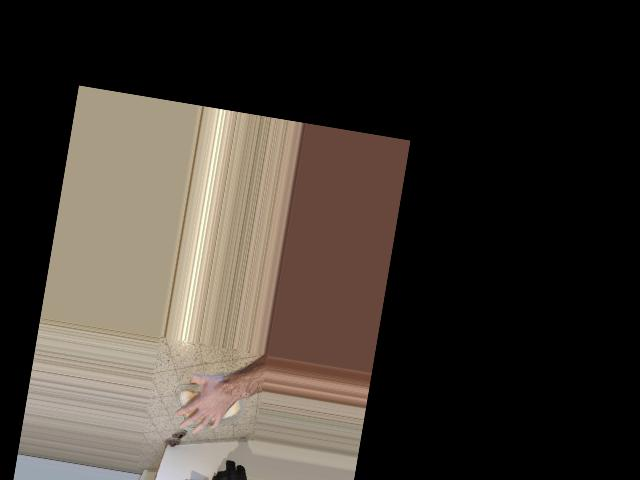cheese: (171, 365, 246, 439)
